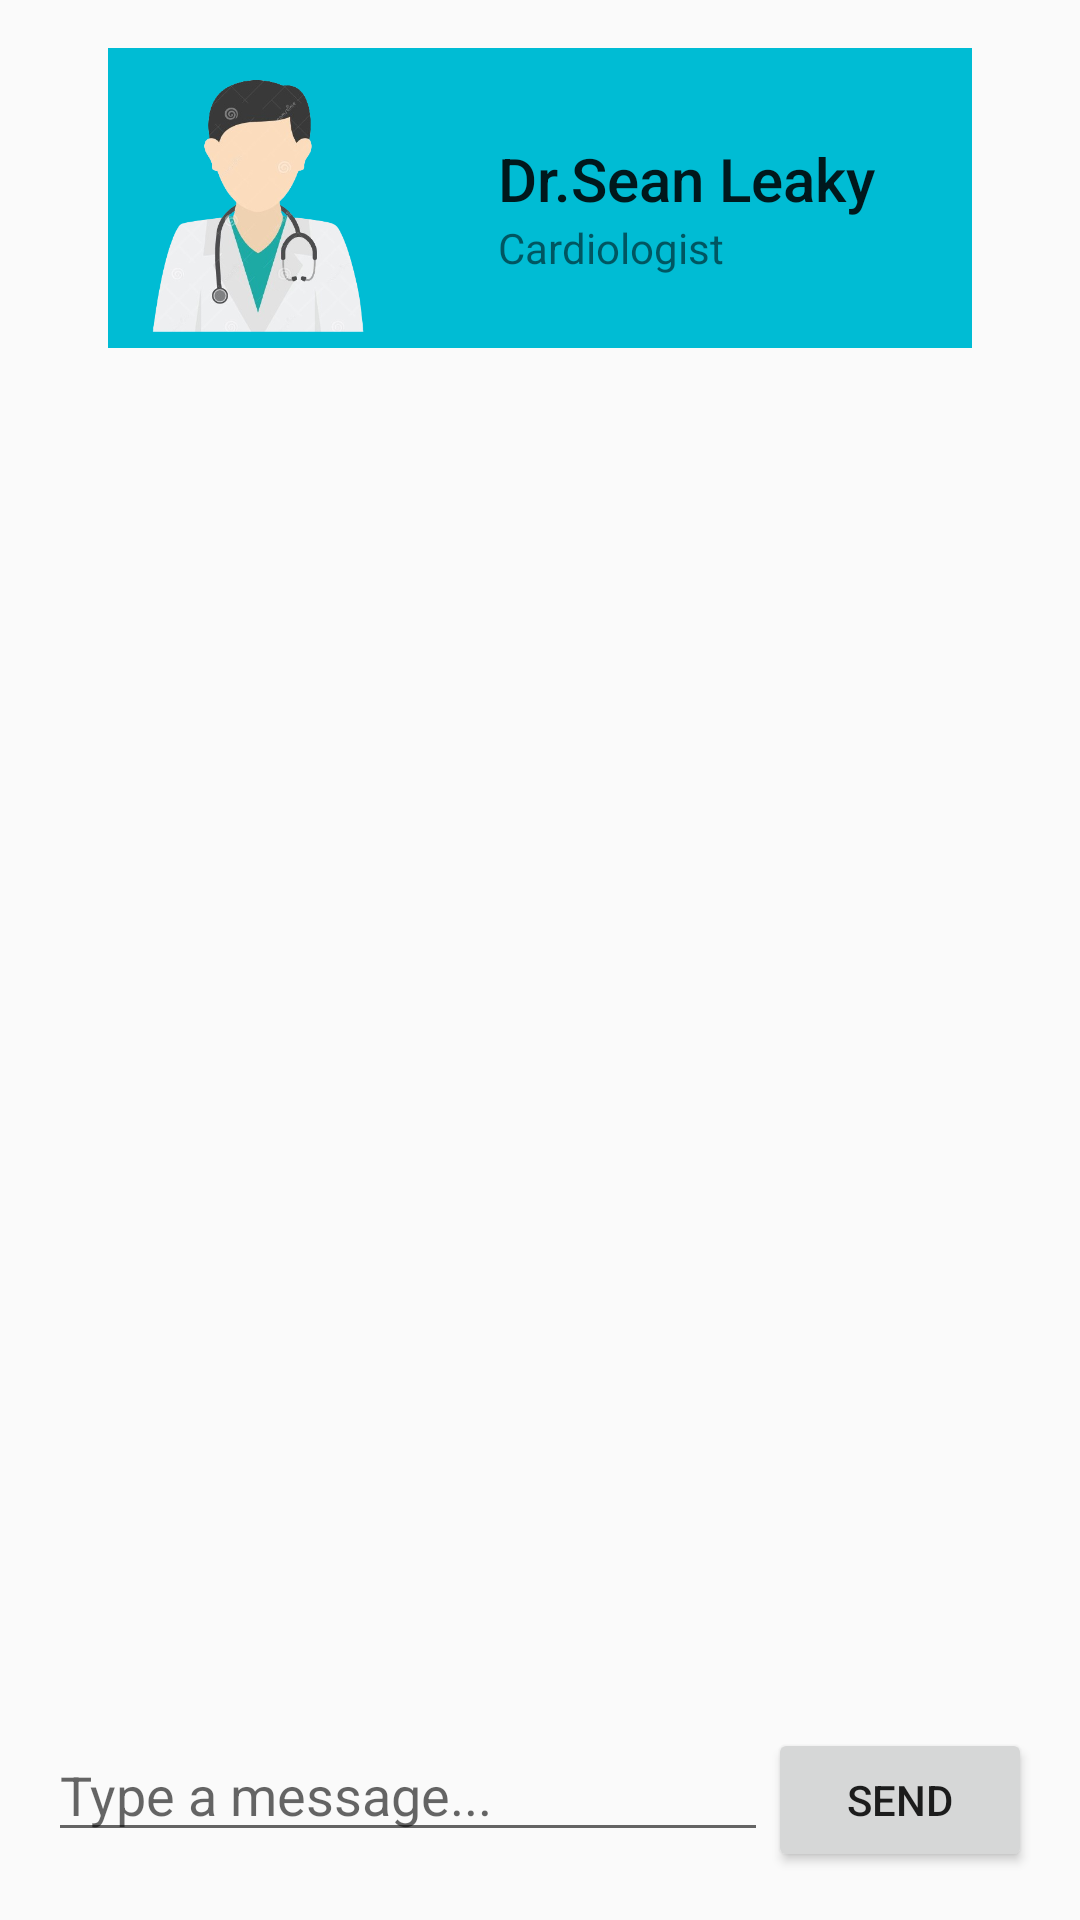

Icon click points for this 1080w x 1920h phone screenshot, format point (x, y):
docsimage: point (258, 198)
